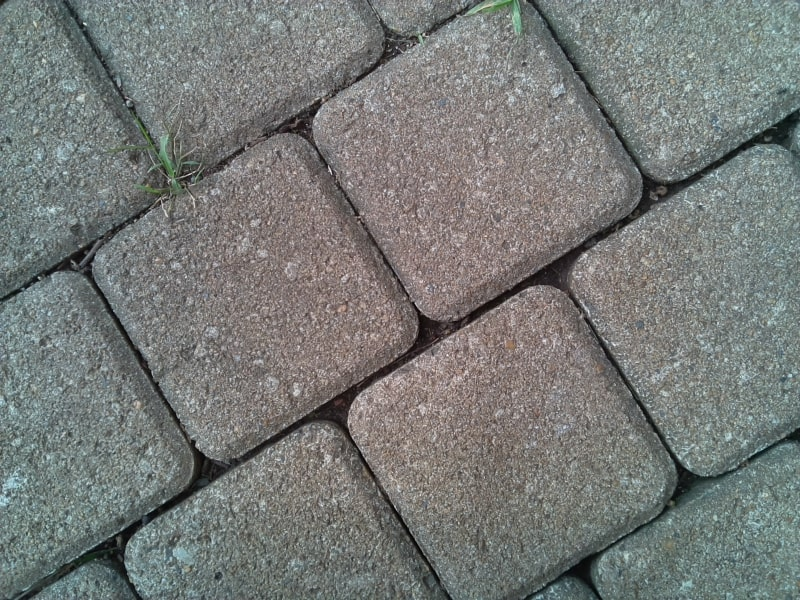Weed: (132, 123, 202, 200)
